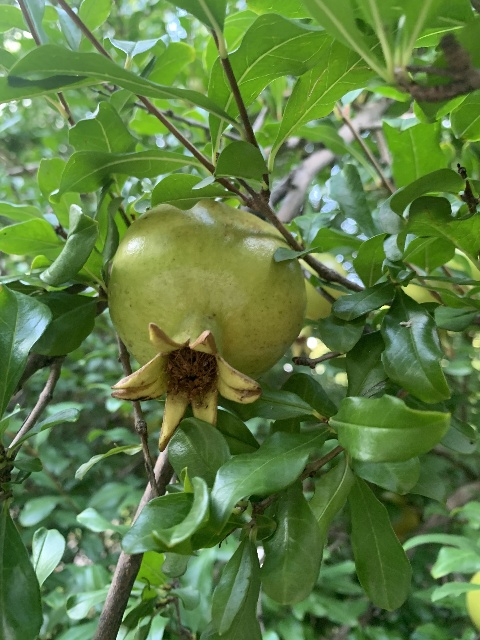mid-growth: (107, 198, 307, 452), (290, 252, 347, 357)
